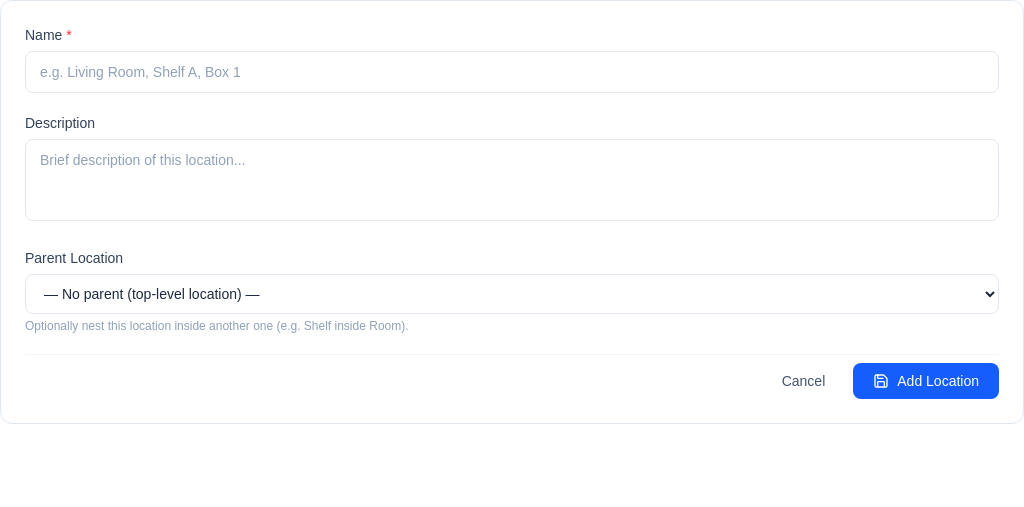
Scenario: LocationForm — server action error › displays error message returned by addLocationAction
Type "New Shelf" into the field with placeholder "e.g. Living Room, Shelf A, Box 1" at [512, 72], box [25,51,999,93]
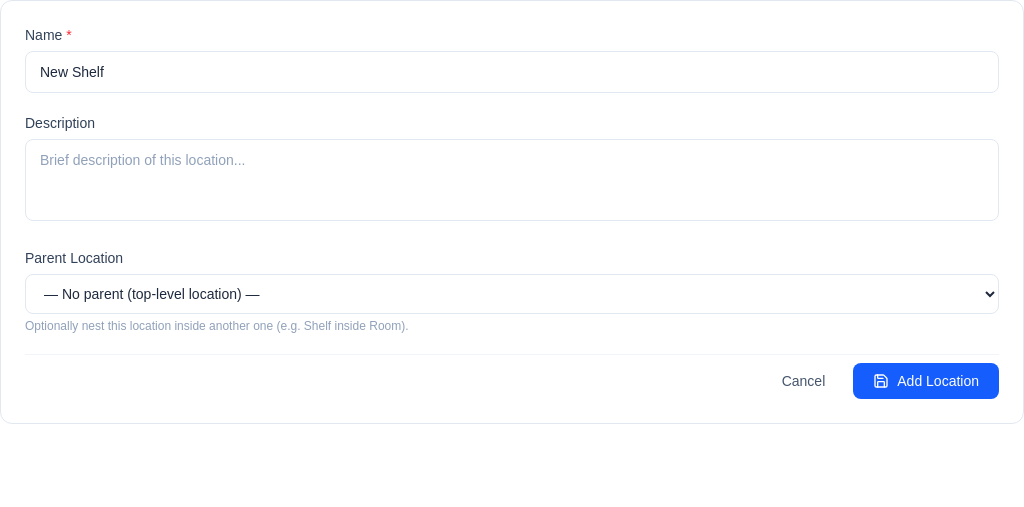
Click the button "Add Location" at [926, 381], box [853,363,999,399]
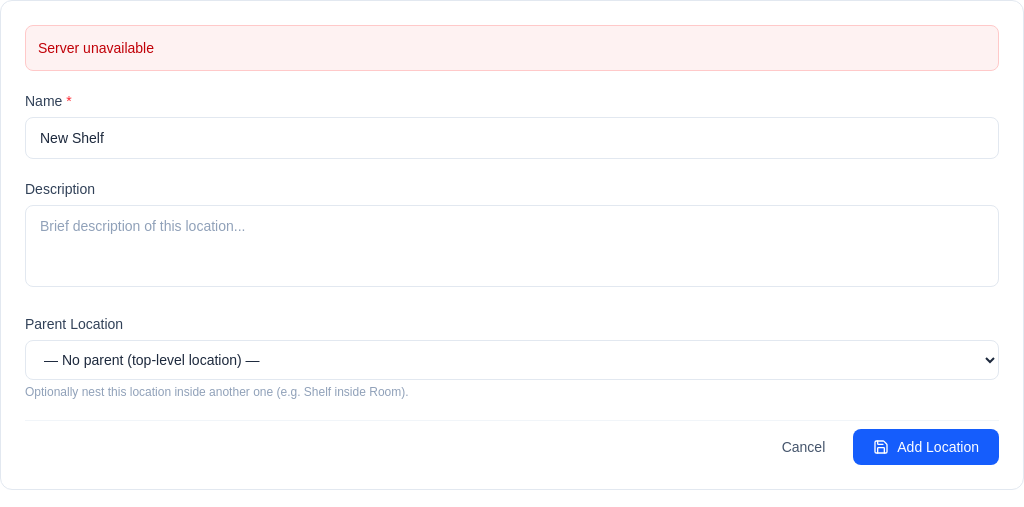
Now the text "Server unavailable" is shown, box [25,25,999,71]
